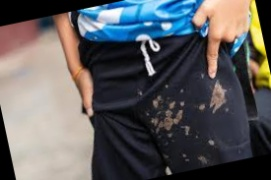earth: (149, 92, 190, 139), (203, 82, 231, 115)
